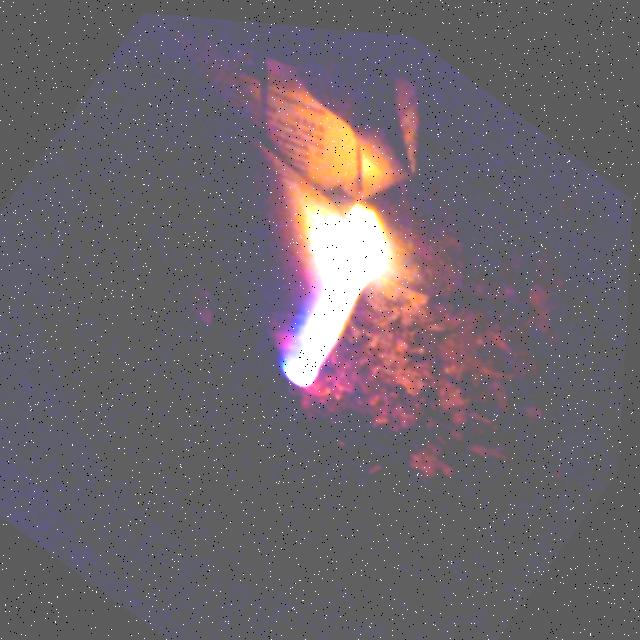Fire: (249, 182, 422, 396)
